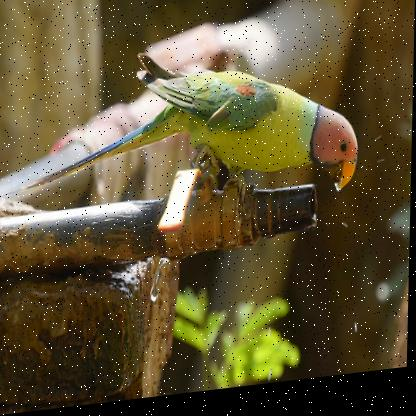Burung: (0, 34, 361, 231)
